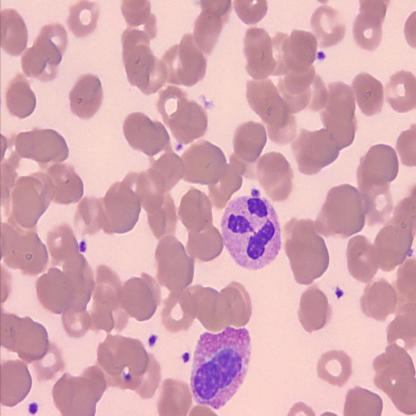Eosinophil: (190, 325, 250, 410)
